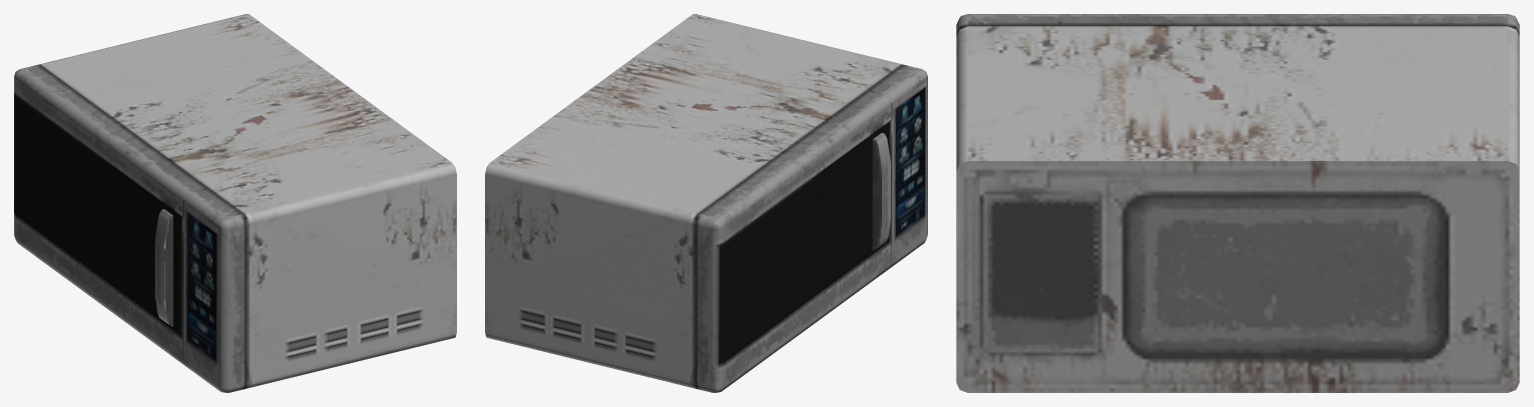
The model's file is CP_Microwave.fbx.
3 views of the same model, side by side, from view 1: azimuth 30°, elevation 25°; view 2: azimuth 150°, elevation 25°; view 3: azimuth 270°, elevation 25° (orthographic). The views are drawn at different scales.
Parts seen in each view (by area): view 1: CP_Microwave; view 2: CP_Microwave; view 3: CP_Microwave.
Part boxes in pixels (left/top/right/bottom): CP_Microwave: left=14, top=14, right=456, bottom=392; CP_Microwave: left=485, top=14, right=927, bottom=392; CP_Microwave: left=956, top=14, right=1519, bottom=392.
Size of the model in its own units: 41.86 by 28.76 by 63.29.
